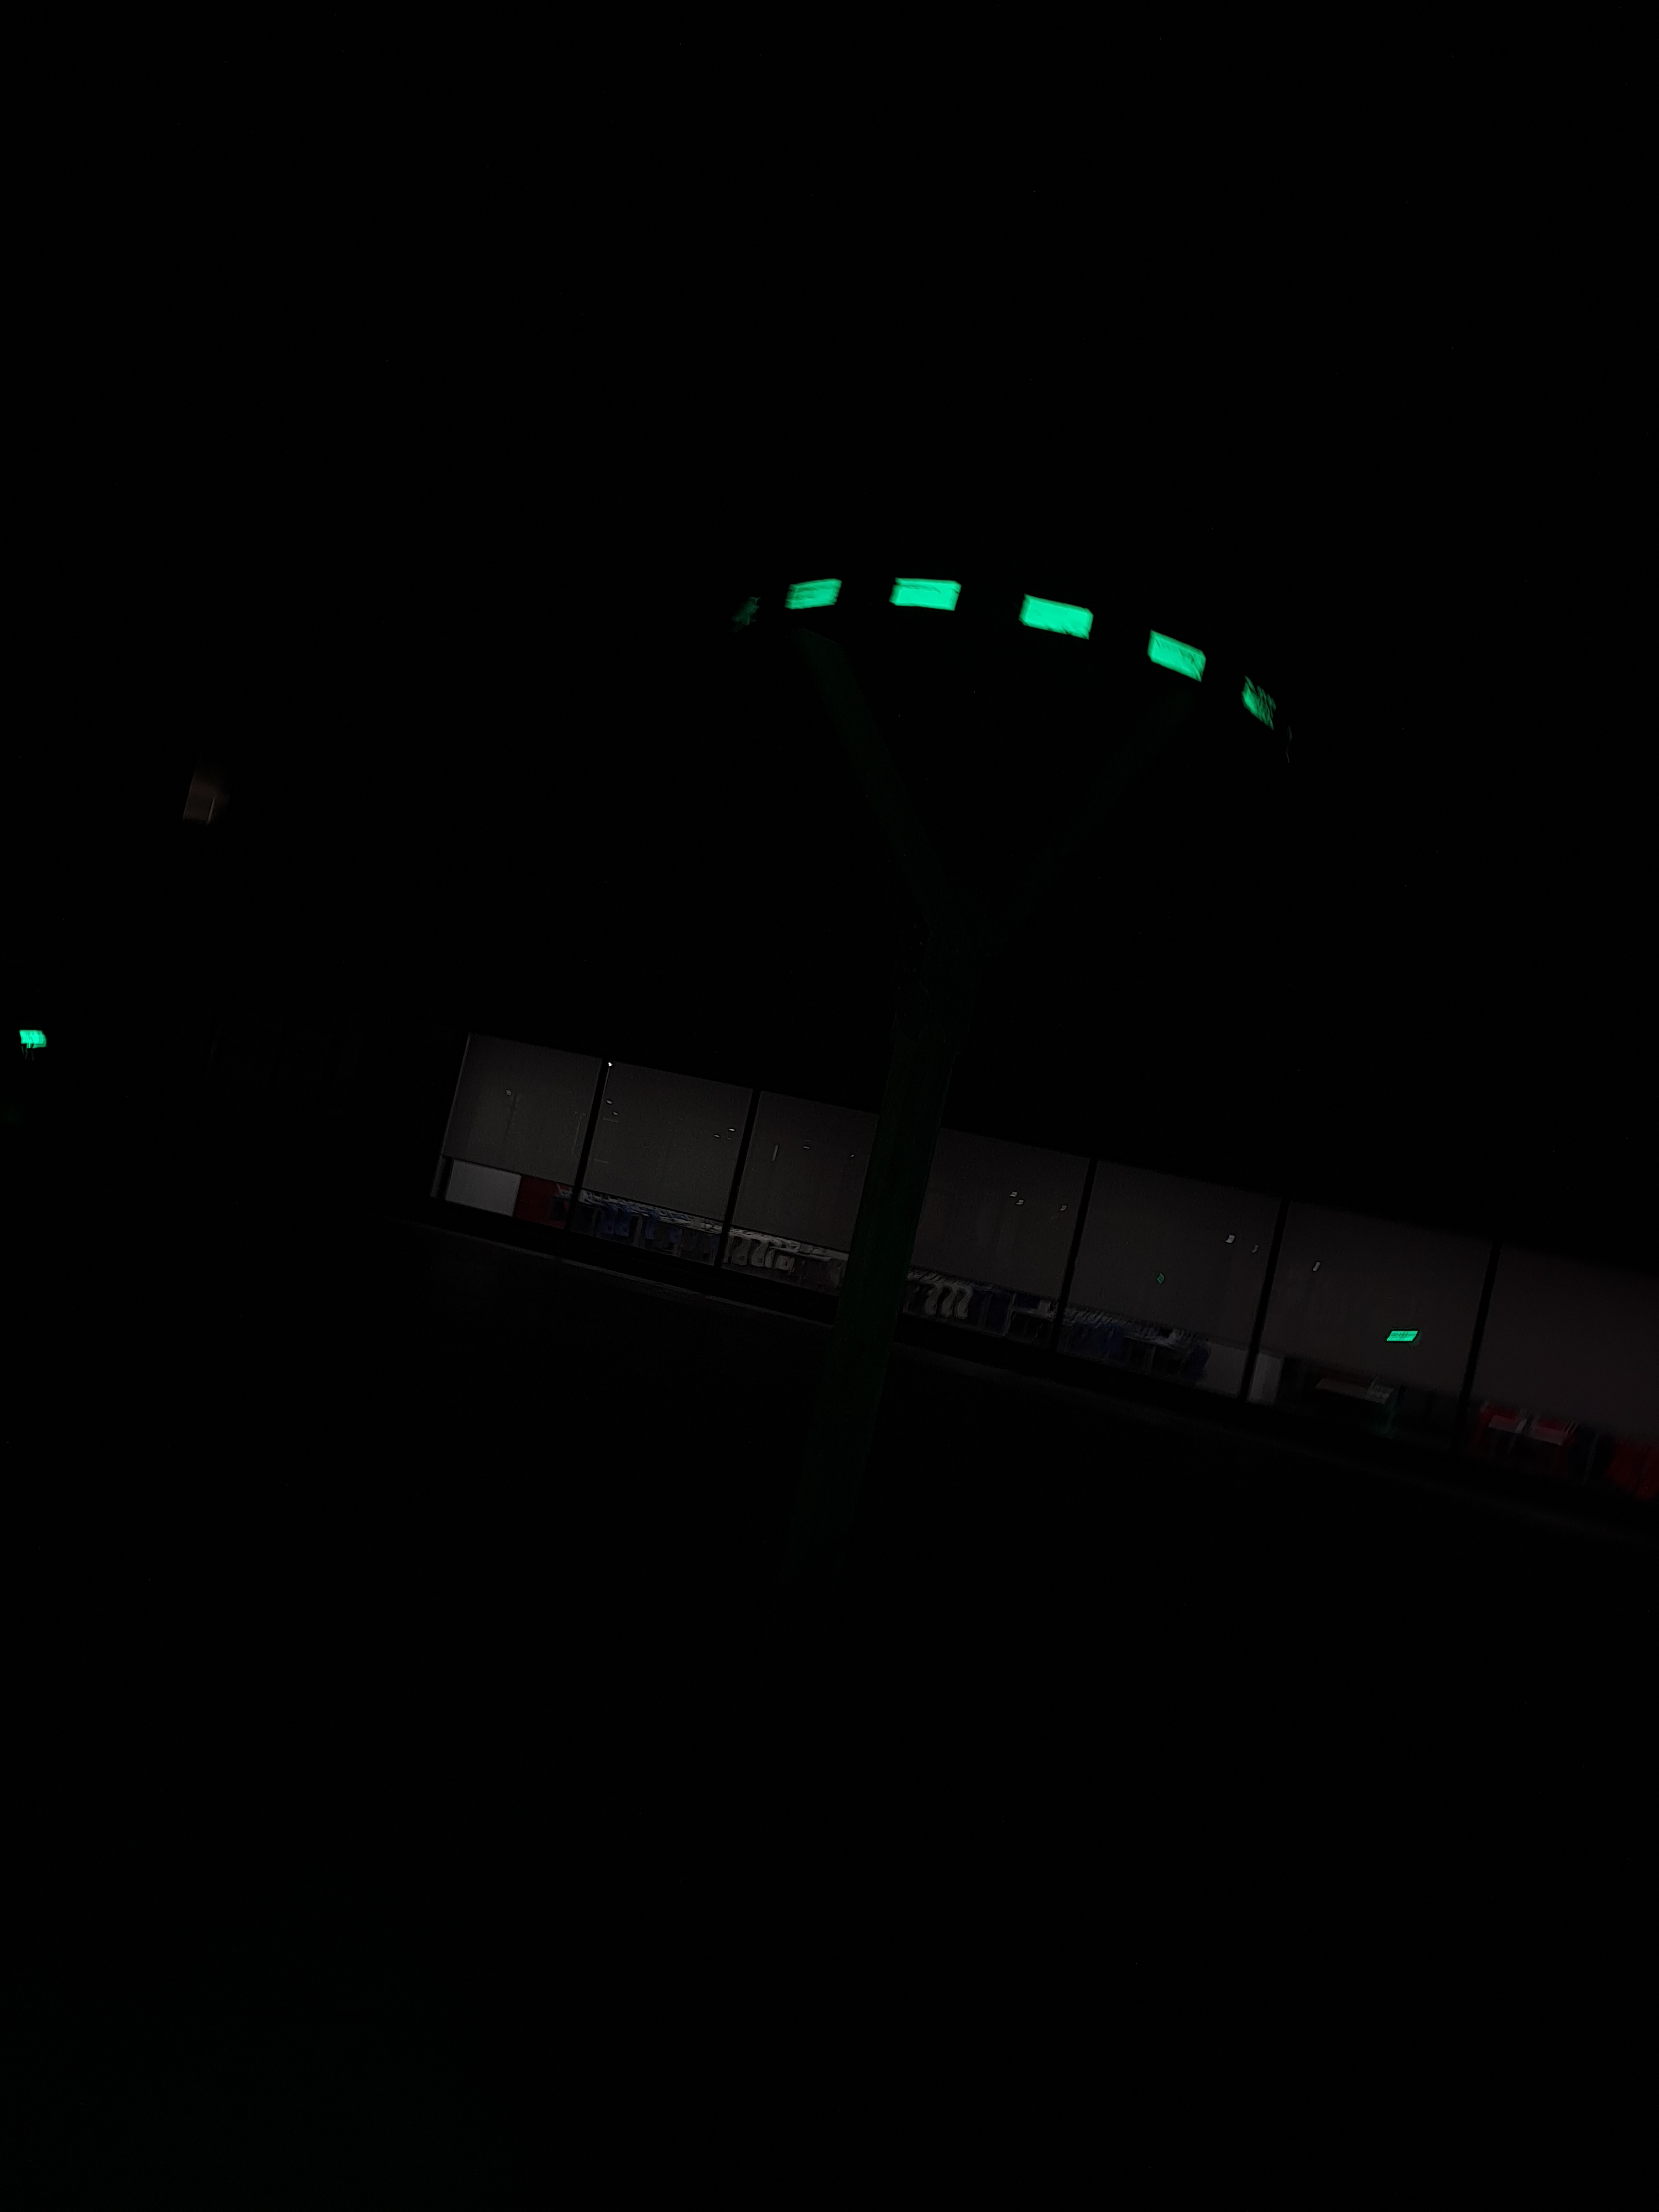hoop: (781, 557, 1281, 733)
